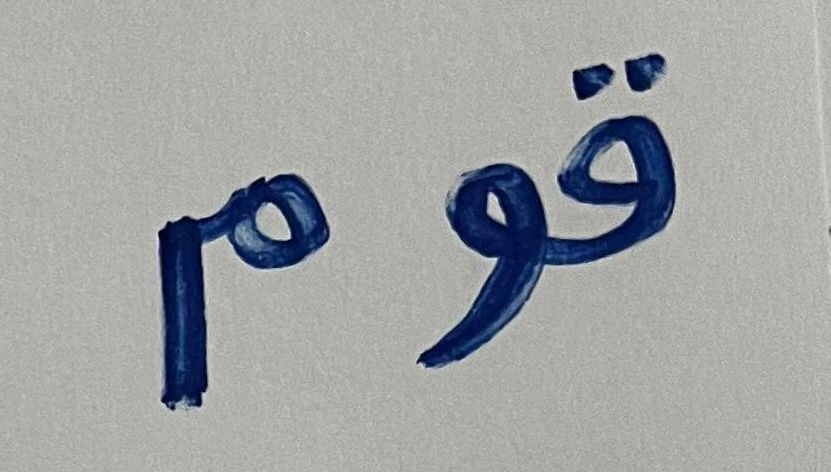meem: (98, 121, 371, 424)
qaf: (558, 45, 715, 310)
waw: (389, 153, 554, 390)
